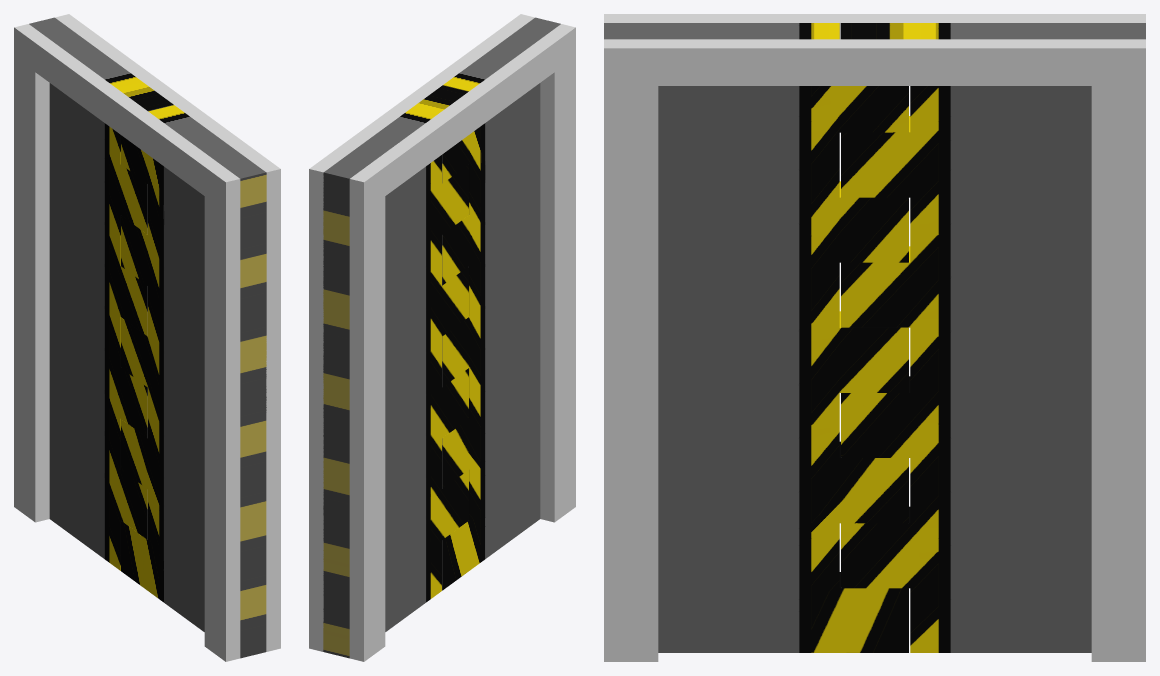
File: Door5.fbx
3 views of the same model, side by side, from view 1: azimuth 30°, elevation 25°; view 2: azimuth 150°, elevation 25°; view 3: azimuth 270°, elevation 25° (orthographic). The views are drawn at different scales.
Parts seen in each view (by area): view 1: Cube, Cube.003, Cube.001; view 2: Cube, Cube.001, Cube.003; view 3: Cube.003, Cube.001, Cube.
Boxes of the visible parts, box(x1,y1,x2,y2) form: Cube: box(14, 14, 280, 661); Cube.003: box(121, 105, 266, 658); Cube.001: box(29, 17, 173, 570); Cube: box(309, 14, 575, 661); Cube.001: box(323, 85, 468, 658); Cube.003: box(442, 17, 560, 590); Cube.003: box(604, 23, 908, 652); Cube.001: box(841, 23, 1145, 652); Cube: box(604, 14, 1145, 661).
Size of the model in its own units: 60 by 500 by 400.
